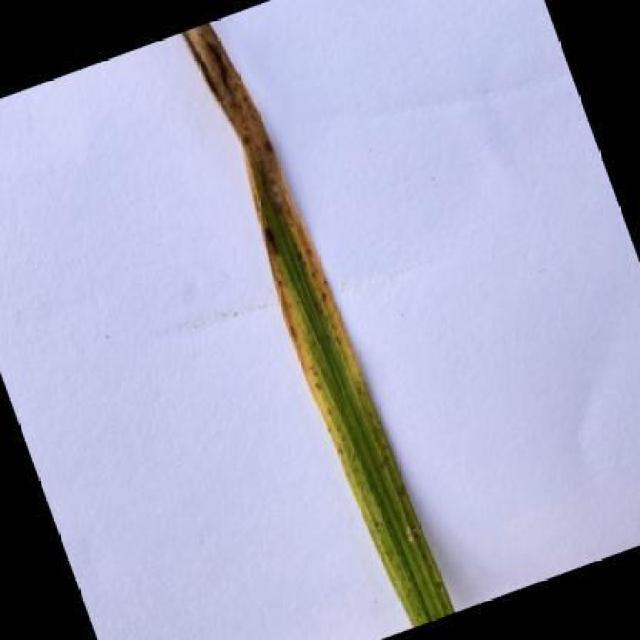Rice False Smut: (173, 12, 449, 632)
